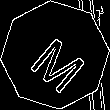M_NE: (21, 21, 89, 89)
